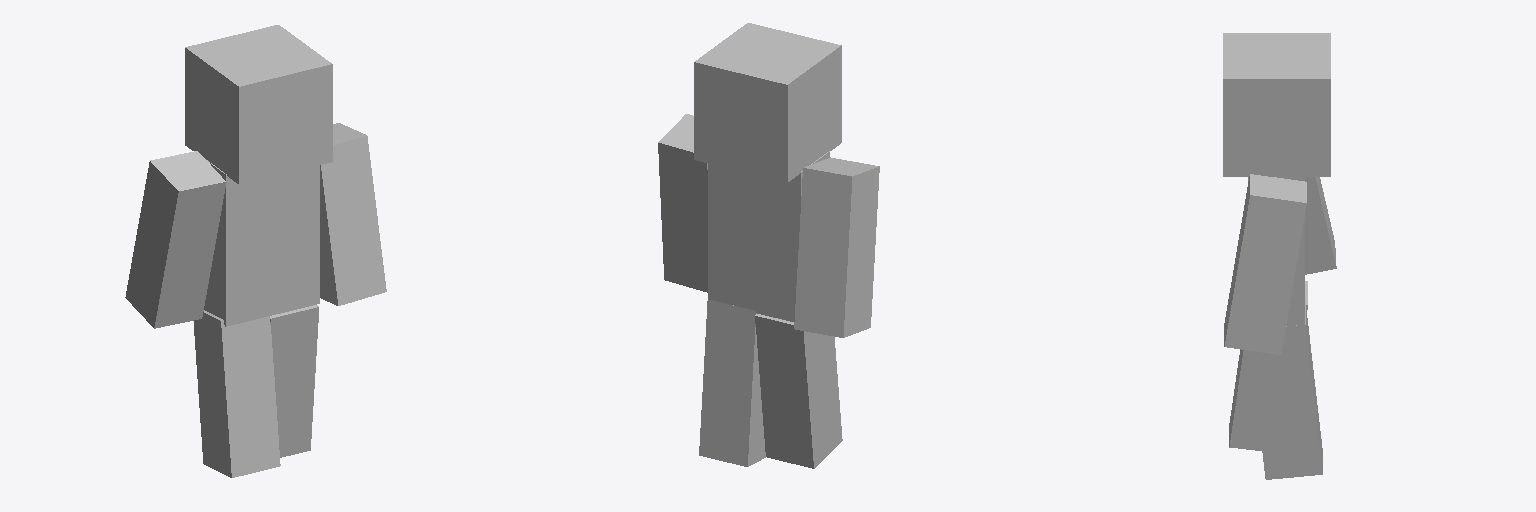
Rendered from Herobrine.obj.
3 views of the same model, side by side, from view 1: azimuth 30°, elevation 25°; view 2: azimuth 150°, elevation 25°; view 3: azimuth 270°, elevation 25° (orthographic).
Visible parts, largest first — view 1: Cube_Cube.001; view 2: Cube_Cube.001; view 3: Cube_Cube.001.
Boxes of the visible parts, x1=… form: Cube_Cube.001: x1=125, y1=25, x2=386, y2=477; Cube_Cube.001: x1=658, y1=23, x2=879, y2=468; Cube_Cube.001: x1=1223, y1=33, x2=1336, y2=479.
Bounding box in the file's own units: 4.41 × 8.2 × 2.1.